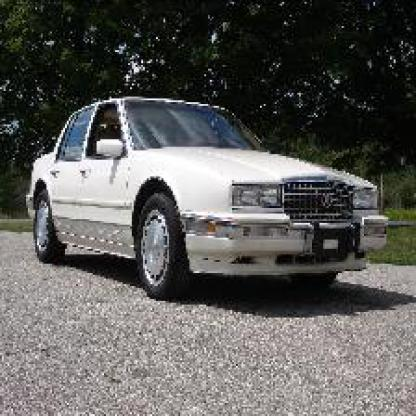not_emergency: (23, 87, 402, 308)
